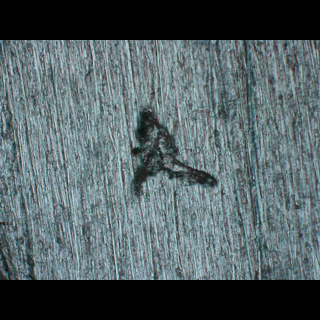d: (126, 105, 222, 201)
